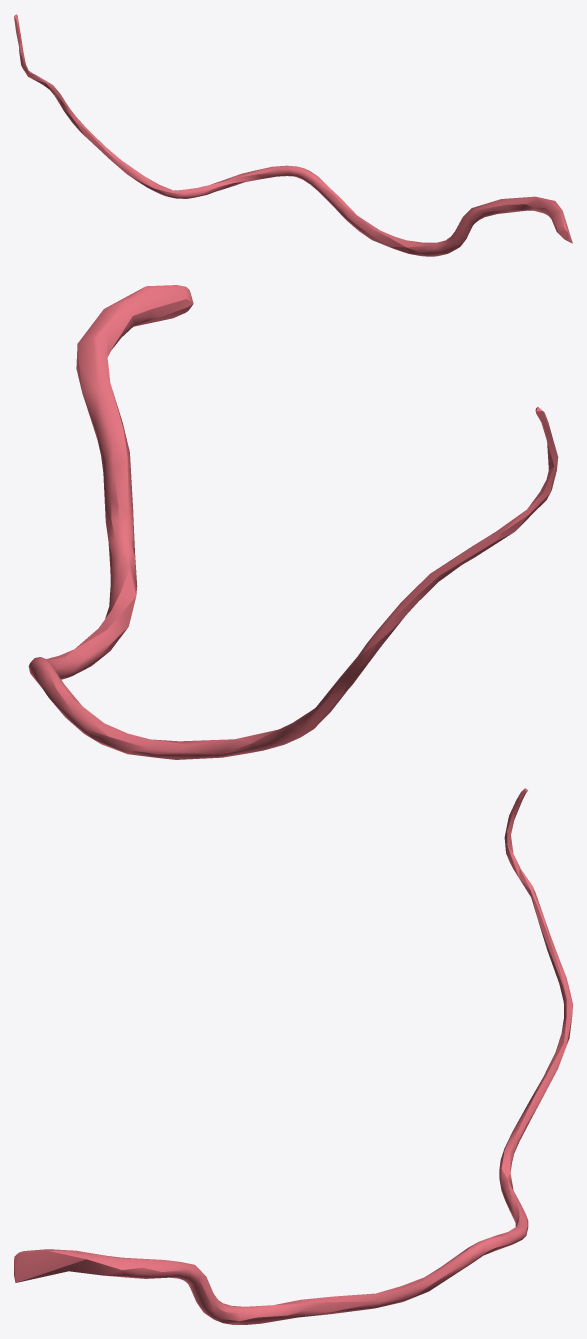
The model's file is fma86070_fj5003.glb.
The picture shows the model from 3 angles, top to bottom: view 1: azimuth 30°, elevation 25°; view 2: azimuth 150°, elevation 25°; view 3: azimuth 270°, elevation 25°; orthographic projection. The views are drawn at different scales.
Visible parts, largest first — view 1: FMA86070_FJ5003; view 2: FMA86070_FJ5003; view 3: FMA86070_FJ5003.
Part boxes in pixels (x1,y1,x2,y2): FMA86070_FJ5003: (14,14,572,256); FMA86070_FJ5003: (28,285,558,759); FMA86070_FJ5003: (14,788,572,1324).
Size of the model in its own units: 0.0405 by 0.0249 by 0.0377.
